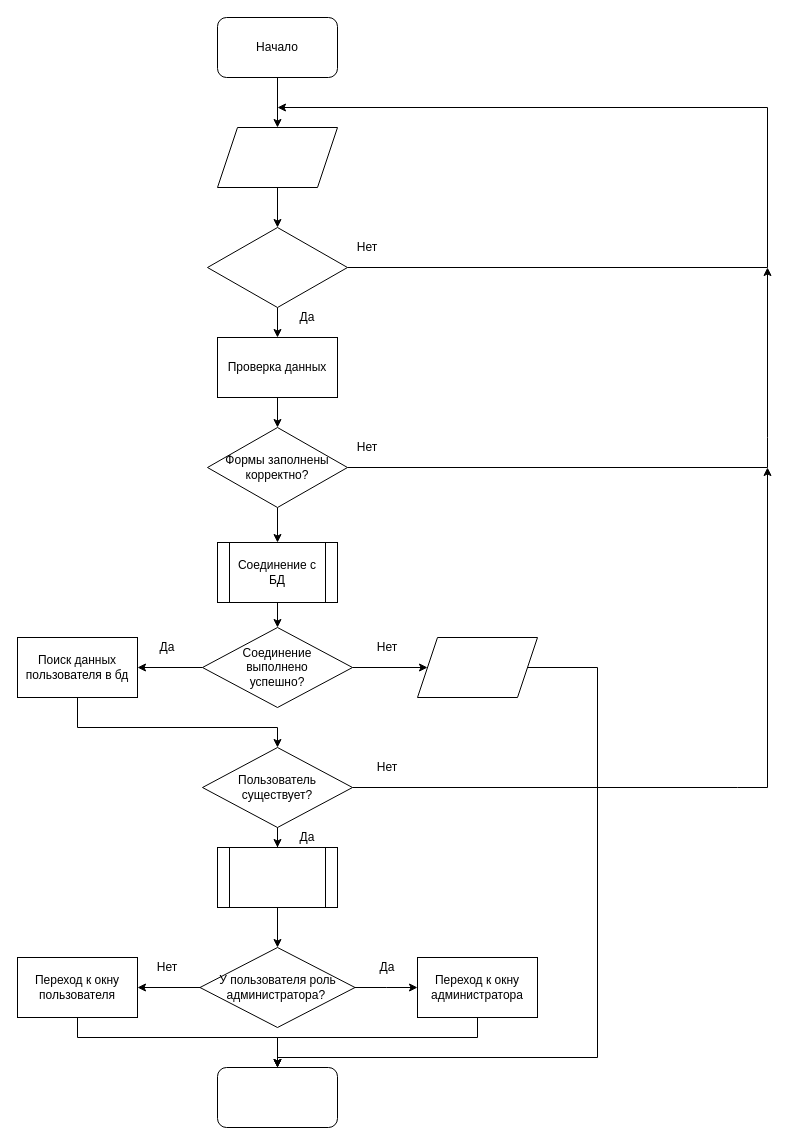
The diagram is 793 pixels wide and 1145 high, and some of its shapes have lost their labels. The centre of each missing label's shape, as x and y in pixels:
Авторизация: (277,877)
Ввод логина и пароля: (277,157)
Все поля заполнены?: (277,267)
Конец: (277,1097)
Отсутствует соединение с БД: (477,667)
